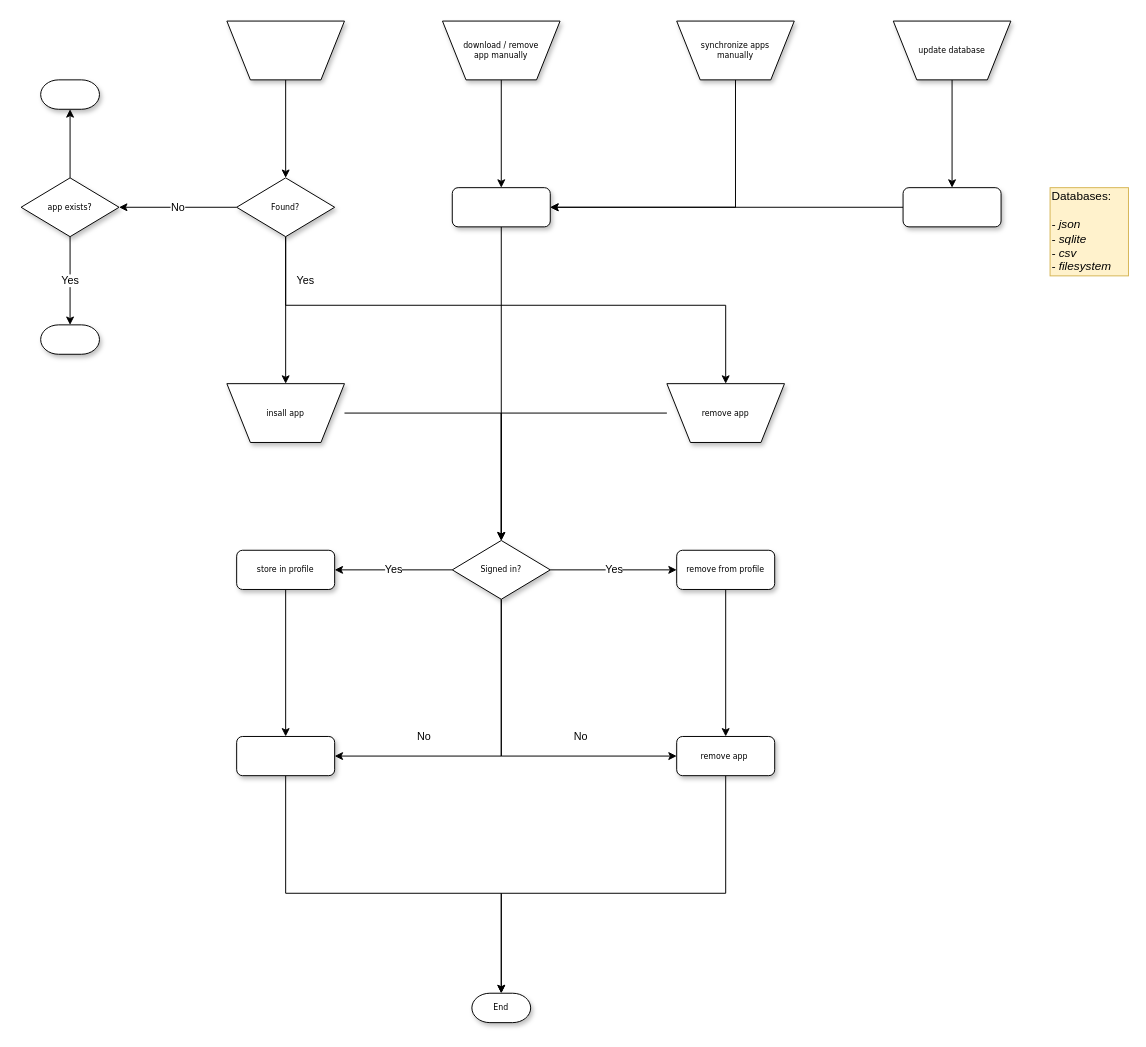
Image size: 1146x1047. Some labels were removed from this diagram. Each missing label, with the centre of its shape:
"detect local changes" belongs at (501,208).
"download app" belongs at (286,757).
"download database" belongs at (952,208).
"Exit" belongs at (70,95).
"Package request" belongs at (70,340).
"search an app by the keywords" belongs at (286,51).
